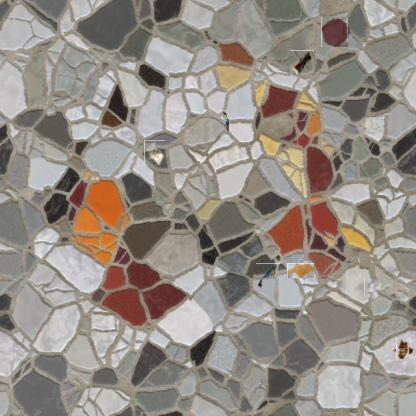dirty: (256, 263, 280, 288), (290, 51, 315, 75), (144, 140, 165, 165), (394, 340, 412, 359), (364, 278, 381, 298), (222, 111, 228, 131)
liquid: (321, 18, 349, 47), (287, 263, 314, 278)
